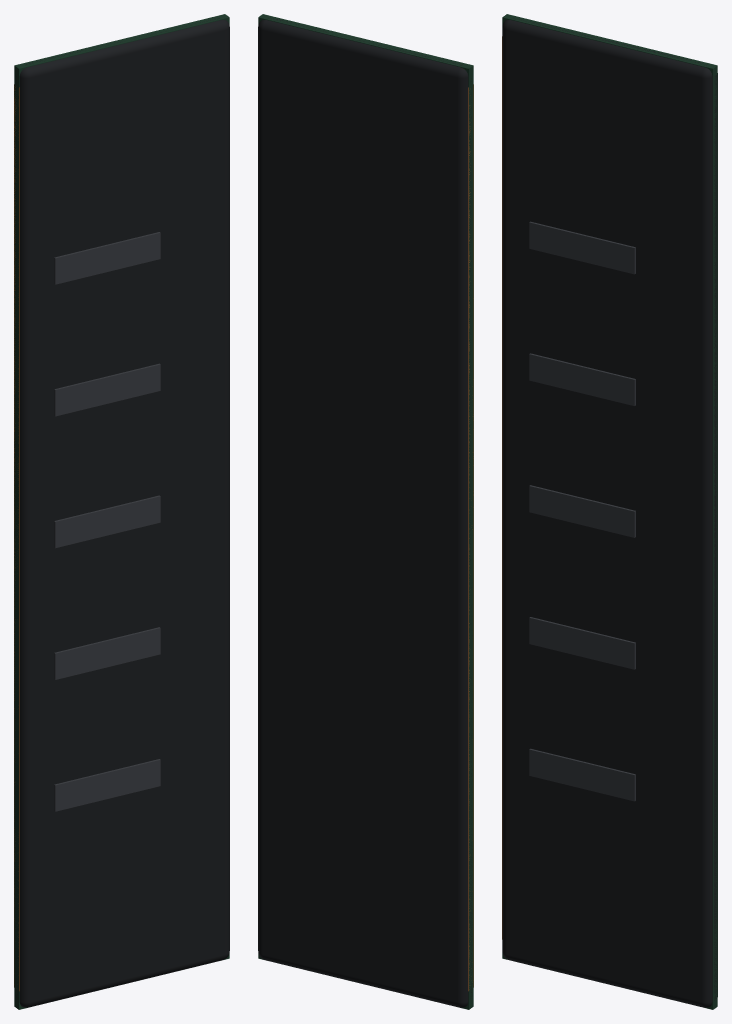
File: ram-standard-v1.glb
3 views of the same model, side by side, from view 1: azimuth 30°, elevation 25°; view 2: azimuth 150°, elevation 25°; view 3: azimuth 330°, elevation 25° (orthographic).
Visible parts, largest first — view 1: heatspreader__mesh, pcb__mesh; view 2: heatspreader__mesh, pcb__mesh; view 3: heatspreader__mesh, pcb__mesh.
Part boxes in pixels (<box>): heatspreader__mesh: <box>15,18,229,1007</box>; pcb__mesh: <box>14,14,229,1009</box>; heatspreader__mesh: <box>258,17,472,1007</box>; pcb__mesh: <box>258,14,473,1009</box>; heatspreader__mesh: <box>502,18,717,1007</box>; pcb__mesh: <box>502,14,717,1009</box>.
Bounding box in the file's own units: 0.0313 × 0.1333 × 0.0033.
